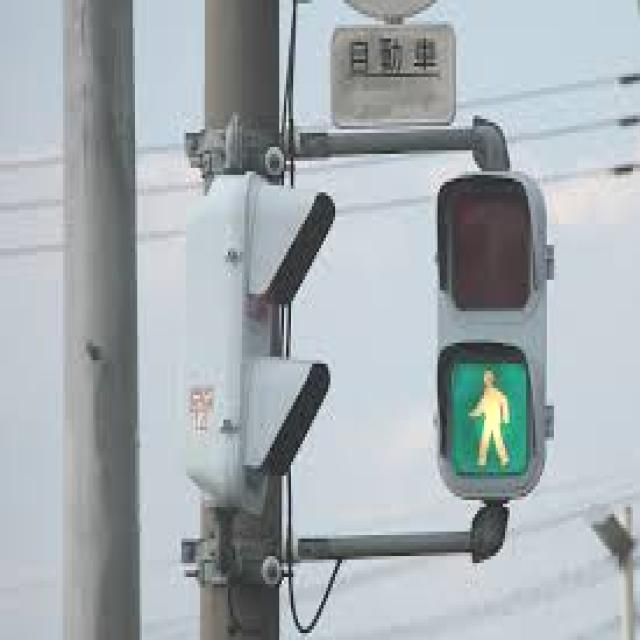trafficlight: (423, 161, 554, 496)
